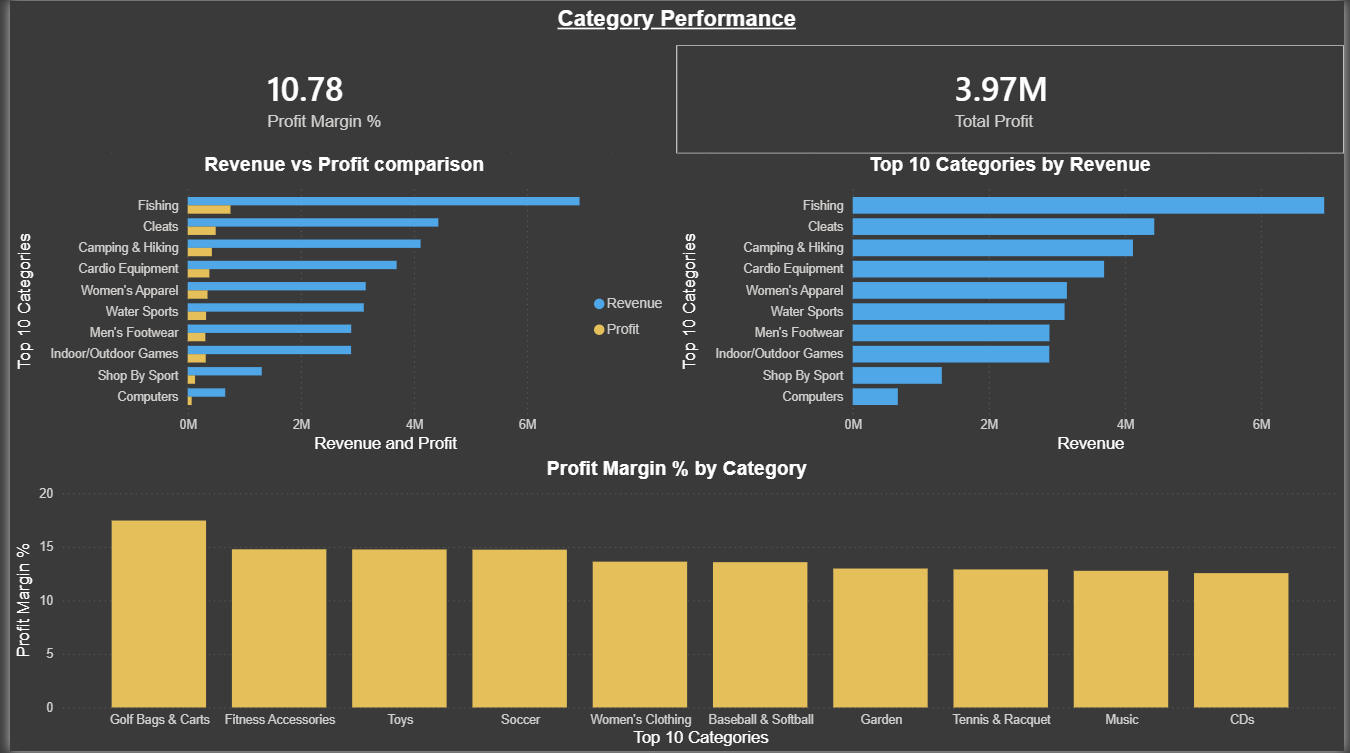

What the dashboard file says about the page in this screenshot:
{"tool":"powerbi","page":{"name":"Category Performance","canvas":[1280,720],"ordinal":1},"visuals":[{"type":"cardVisual","fields":{"Data":["category_sales.Total Profit"]},"box":[639.6,42.4,640.8,103.5],"z":0},{"type":"cardVisual","fields":{"Data":["category_sales.Profit Margin %"]},"box":[0,42.4,639.6,103.5],"z":1000},{"type":"clusteredBarChart","title":"Top 10 Categories by Revenue","fields":{"Category":["category_sales.category_name"],"Y":["Sum(category_sales.revenue)"]},"box":[639.6,145.9,640.8,291.7],"z":2000},{"type":"clusteredBarChart","title":"Revenue vs Profit comparison","fields":{"Category":["category_sales.category_name"],"Y":["Sum(category_sales.revenue)","Sum(category_sales.profit)"]},"box":[1.2,145.9,639.6,291.7],"z":3000},{"type":"clusteredColumnChart","title":"Profit Margin % by Category","fields":{"Category":["category_sales.category_name"],"Y":["category_sales.Profit Margin %"]},"box":[0,437.6,1280.4,283],"z":4000},{"type":"textbox","box":[0,0,1280.4,42.4],"z":5000}]}

Visuals, with their boxes in screenshot pixels (x1, y1, x2, y2), scaled from the page's 1280x720 canvas onto the 1350x753 screenshot:
cardVisual - category_sales.Total Profit: locate(675, 44, 1349, 153)
cardVisual - category_sales.Profit Margin %: locate(0, 44, 675, 153)
"Top 10 Categories by Revenue" clusteredBarChart: locate(675, 153, 1349, 458)
"Revenue vs Profit comparison" clusteredBarChart: locate(1, 153, 676, 458)
"Profit Margin % by Category" clusteredColumnChart: locate(0, 458, 1349, 752)
textbox: locate(0, 0, 1349, 44)
